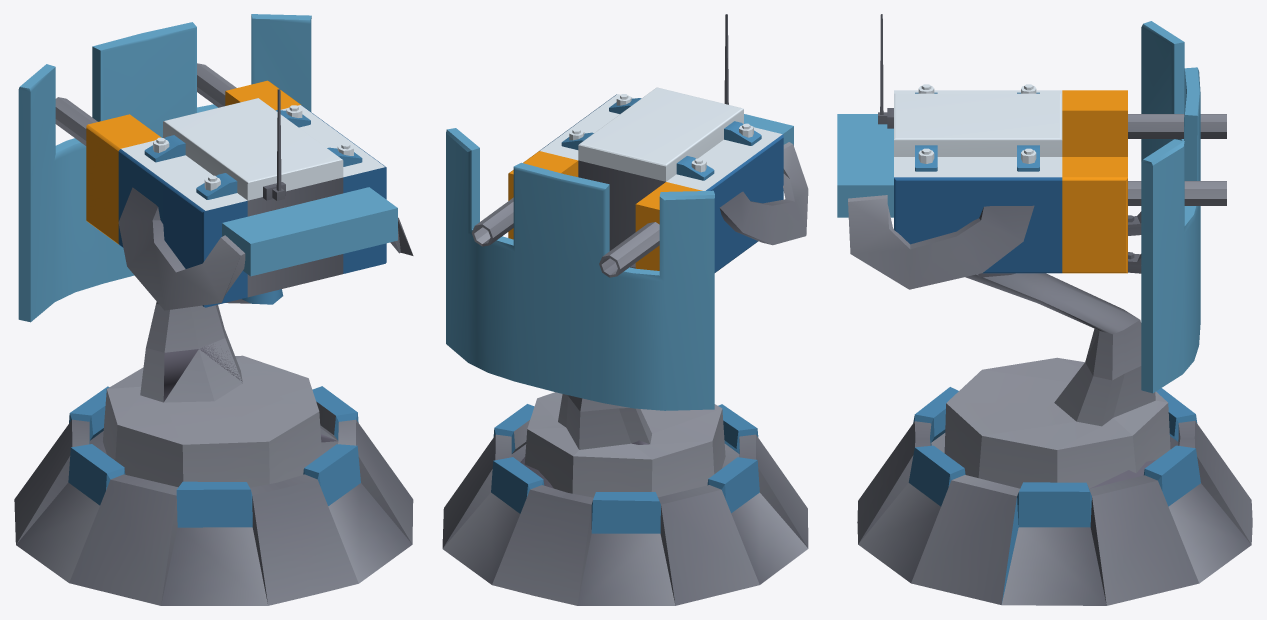
File: Breakable_Gun_03.fbx
3 renders of one model, left to right at view 1: azimuth 30°, elevation 25°; view 2: azimuth 150°, elevation 25°; view 3: azimuth 270°, elevation 25°, orthographic. The views are drawn at different scales.
Parts seen in each view (by area): view 1: polySurface230, polySurface374, polySurface392, polySurface390, polySurface232, polySurface355, polySurface391, polySurface393, polySurface385, polySurface360, polySurface364, polySurface357; view 2: polySurface374, polySurface232, polySurface230, polySurface392, polySurface355, polySurface385, polySurface391, polySurface360, polySurface393, polySurface357, polySurface364, polySurface390; view 3: polySurface232, polySurface230, polySurface392, polySurface374, polySurface356, polySurface393, polySurface390, polySurface391, polySurface231, polySurface385, polySurface360, polySurface369 (+1 smaller).
Boxes of the visible parts, x1,y1,x2,y2 form: polySurface230: (14,338,413,605); polySurface374: (18,14,311,322); polySurface392: (118,98,386,307); polySurface390: (222,187,397,276); polySurface232: (69,303,358,442); polySurface355: (118,187,245,310); polySurface391: (86,114,160,244); polySurface393: (225,80,300,110); polySurface385: (55,97,97,145); polySurface360: (197,63,236,107); polySurface364: (196,173,237,199); polySurface357: (144,135,185,162); polySurface374: (446,128,714,410); polySurface232: (442,394,675,605); polySurface230: (520,392,808,605); polySurface392: (539,87,783,272); polySurface355: (720,142,808,245); polySurface385: (599,222,659,277); polySurface391: (635,182,702,270); polySurface360: (472,197,513,246); polySurface393: (508,151,578,239); polySurface357: (676,156,714,180); polySurface364: (724,121,761,145); polySurface390: (744,114,793,145); polySurface232: (1001,320,1252,605); polySurface230: (857,357,1155,604); polySurface392: (894,90,1062,273); polySurface374: (1141,21,1200,393); polySurface356: (848,195,1034,289); polySurface393: (1062,157,1127,273); polySurface390: (837,114,893,217); polySurface391: (1062,90,1127,156); polySurface231: (965,273,1139,334); polySurface385: (1128,114,1226,138); polySurface360: (1128,181,1226,205); polySurface369: (1017,145,1039,171).
Size of the model in its own units: 147 by 204 by 155.
Materials: 3 (3 with a texture image).
